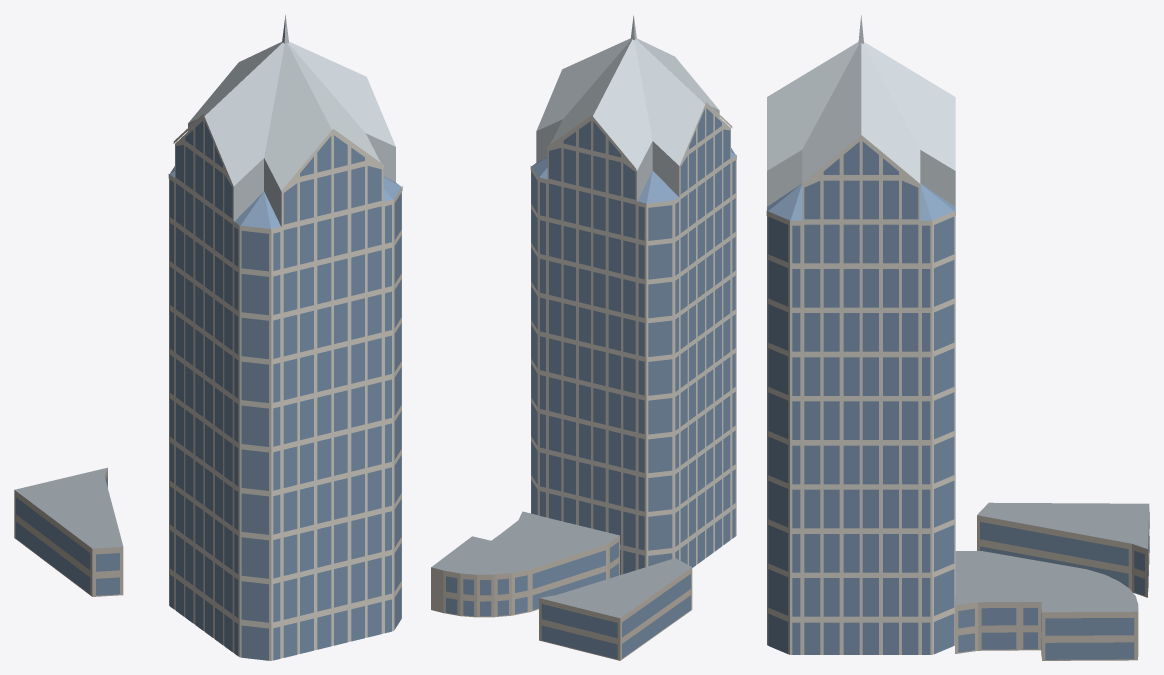
The model's file is sd-one-america-plaza.glb.
3 views of the same model, side by side, from view 1: azimuth 30°, elevation 25°; view 2: azimuth 150°, elevation 25°; view 3: azimuth 270°, elevation 25° (orthographic). The views are drawn at different scales.
Parts seen in each view (by area): view 1: One America Plaza; view 2: One America Plaza; view 3: One America Plaza.
Boxes of the visible parts, <box> form: One America Plaza: <box>14,15,402,660</box>; One America Plaza: <box>431,15,736,660</box>; One America Plaza: <box>766,15,1149,660</box>.
Size of the model in its own units: 59.5 by 152 by 88.
